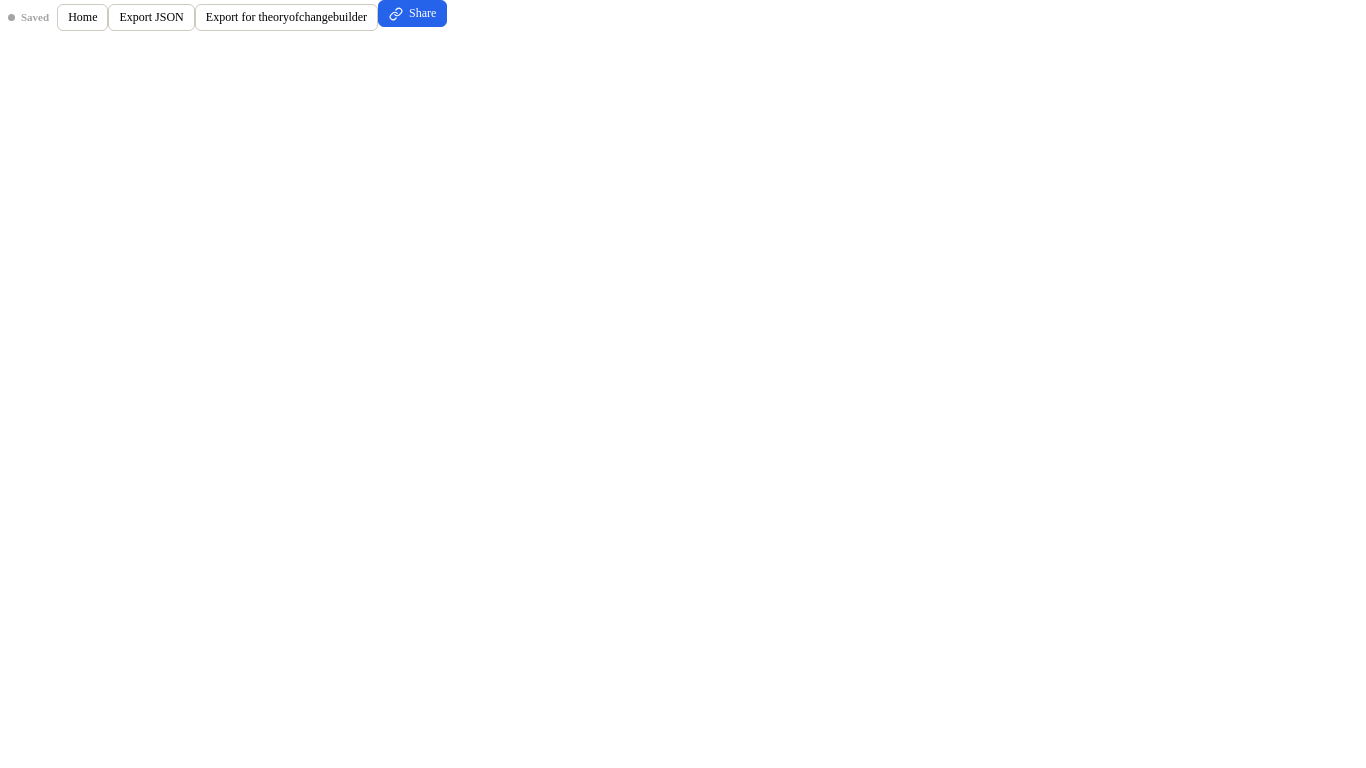
it: Share button and dialog › closes on Escape and returns focus to the Share button
Click the button "Share" at (413, 14), box [378,0,447,27]
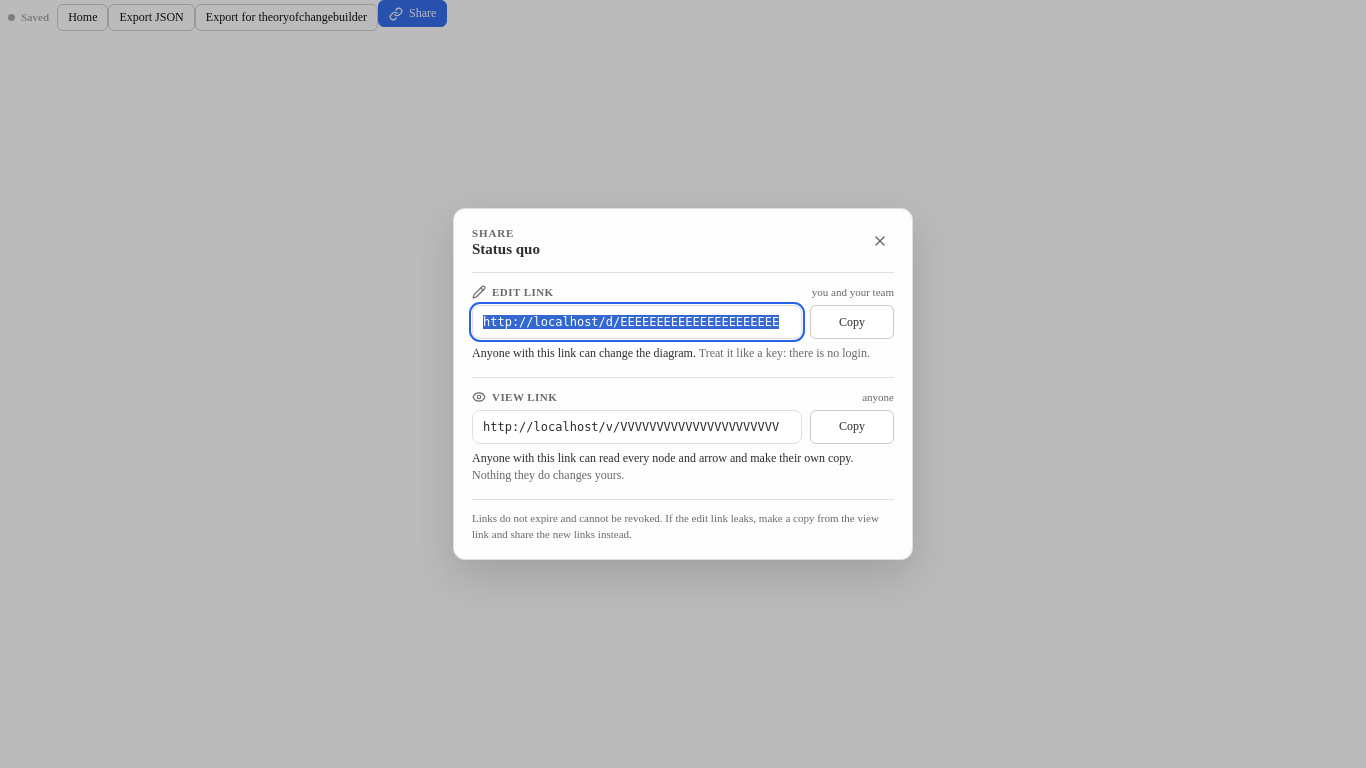
Press Escape in the dialog, box [453,208,913,560]
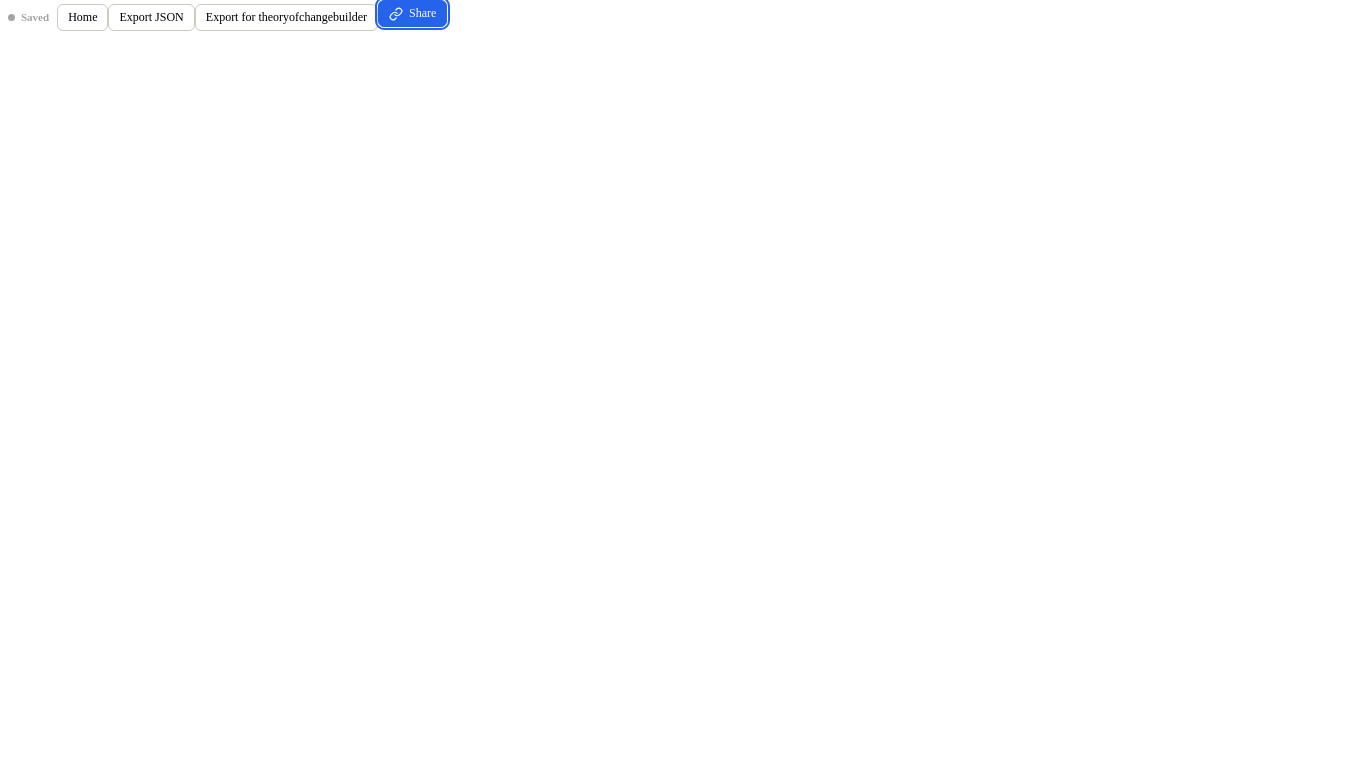
Now the dialog is gone
